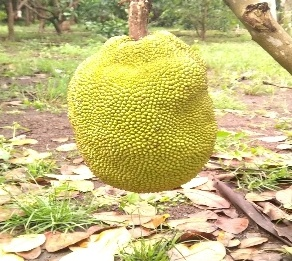Mit: (68, 37, 218, 195)
